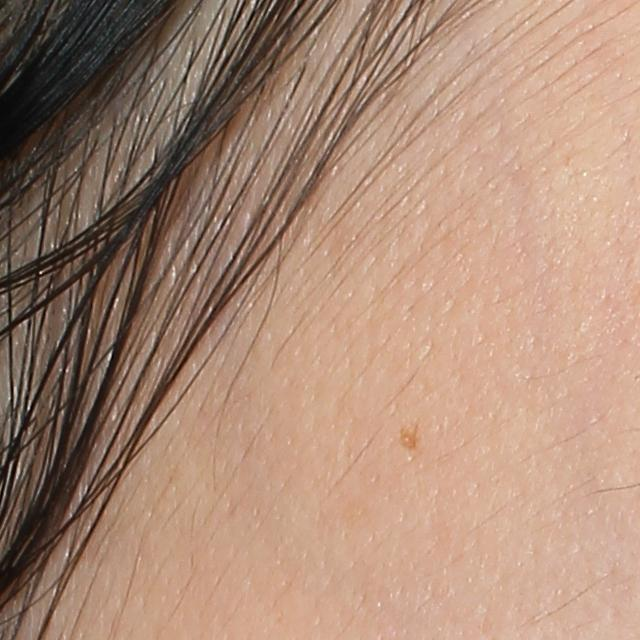melasma: (396, 420, 420, 451)
